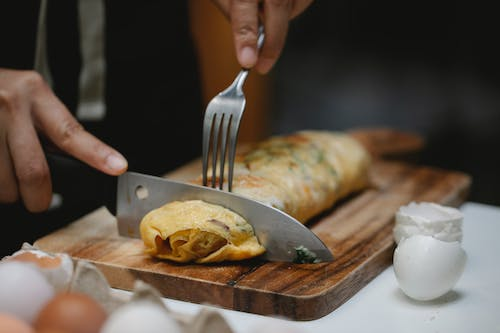knife: (39, 145, 339, 268)
